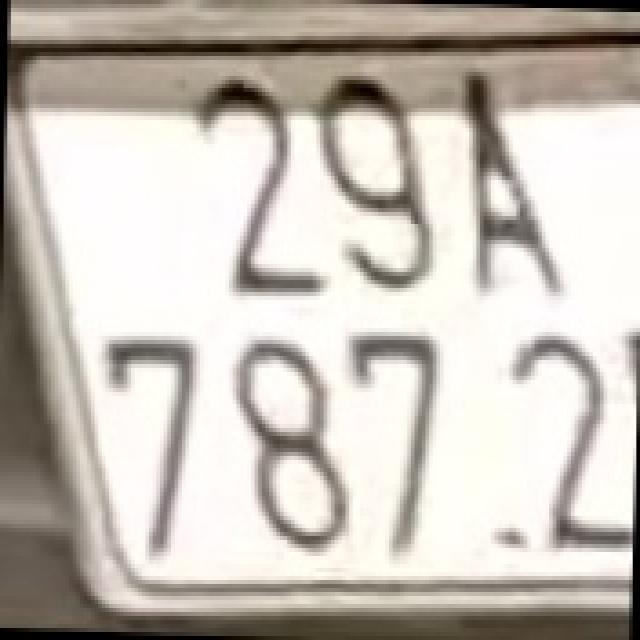2: (200, 68, 327, 300), (505, 324, 622, 552)
7: (349, 324, 451, 560), (102, 328, 204, 560)
8: (232, 328, 352, 556)
9: (316, 68, 440, 292)
A: (451, 60, 574, 304)
